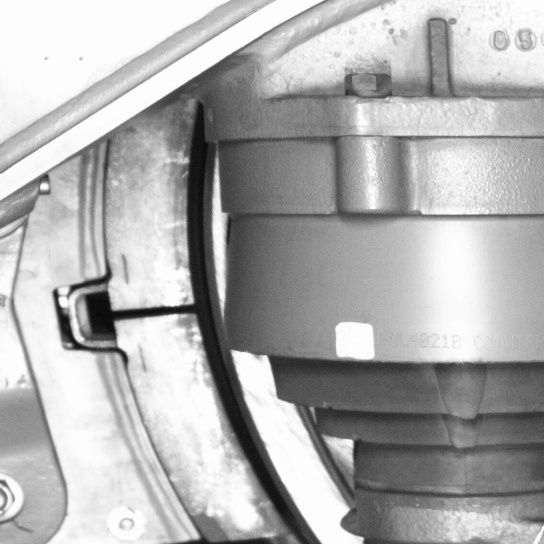KnifeSwitch: (115, 138, 330, 542)
